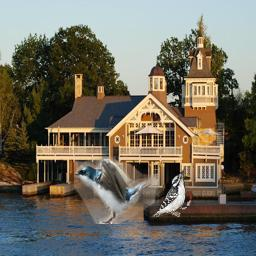Swallow: (74, 156, 159, 224)
Woodpecker: (152, 169, 188, 217)
